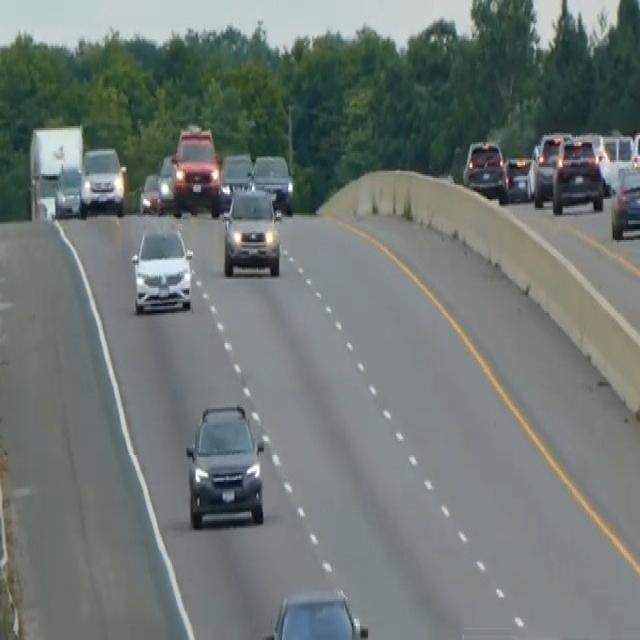car: (130, 224, 194, 315), (221, 183, 282, 277), (261, 587, 369, 638), (172, 123, 220, 215), (551, 135, 604, 215), (81, 144, 126, 215), (532, 130, 571, 206), (251, 151, 294, 213), (217, 150, 254, 212), (597, 132, 635, 192), (610, 162, 639, 240), (463, 137, 503, 185), (54, 160, 84, 219), (467, 160, 507, 203), (502, 153, 533, 201), (156, 153, 178, 210), (138, 171, 162, 215)
jeep: (183, 398, 267, 530)
lorry: (27, 121, 84, 222)
